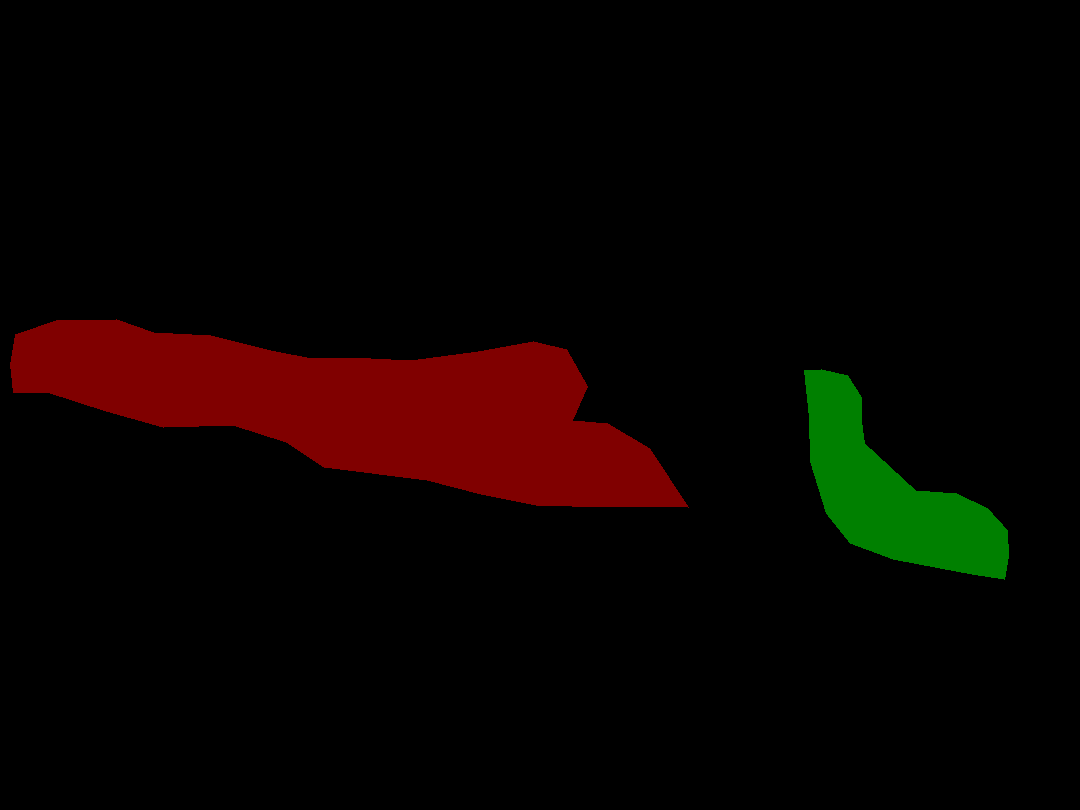fire: (10, 319, 688, 507), (804, 369, 1008, 579)
